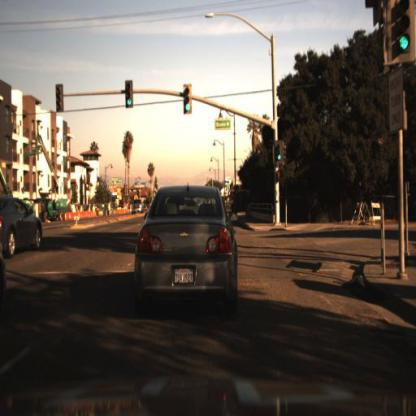car: (132, 180, 239, 321), (1, 192, 48, 271), (1, 196, 48, 260), (130, 198, 145, 219)
trafficLight: (179, 76, 193, 118), (50, 78, 62, 113), (121, 73, 132, 109)
trafficLight-Green: (383, 1, 416, 69), (396, 1, 413, 61), (276, 132, 292, 171), (124, 77, 135, 112), (275, 141, 284, 166)
